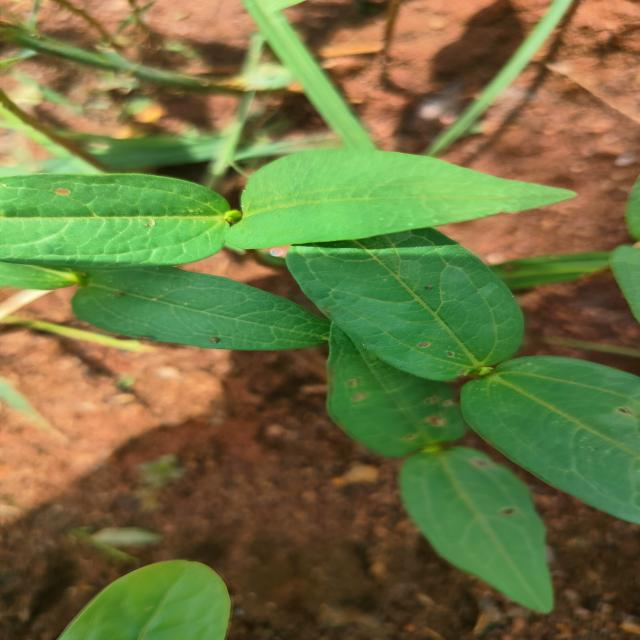Black gram_healthy: (284, 226, 528, 376), (236, 146, 582, 250), (459, 350, 640, 515), (398, 447, 562, 612), (66, 263, 317, 360), (6, 166, 232, 268)
